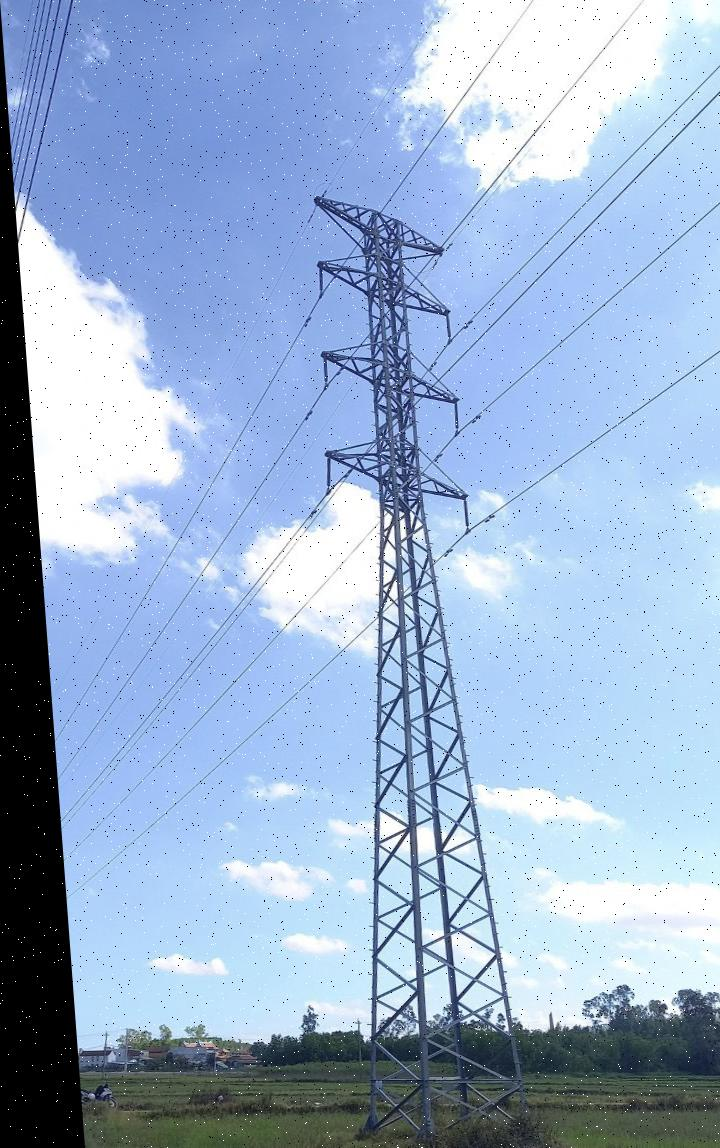tower: (296, 193, 531, 1148)
